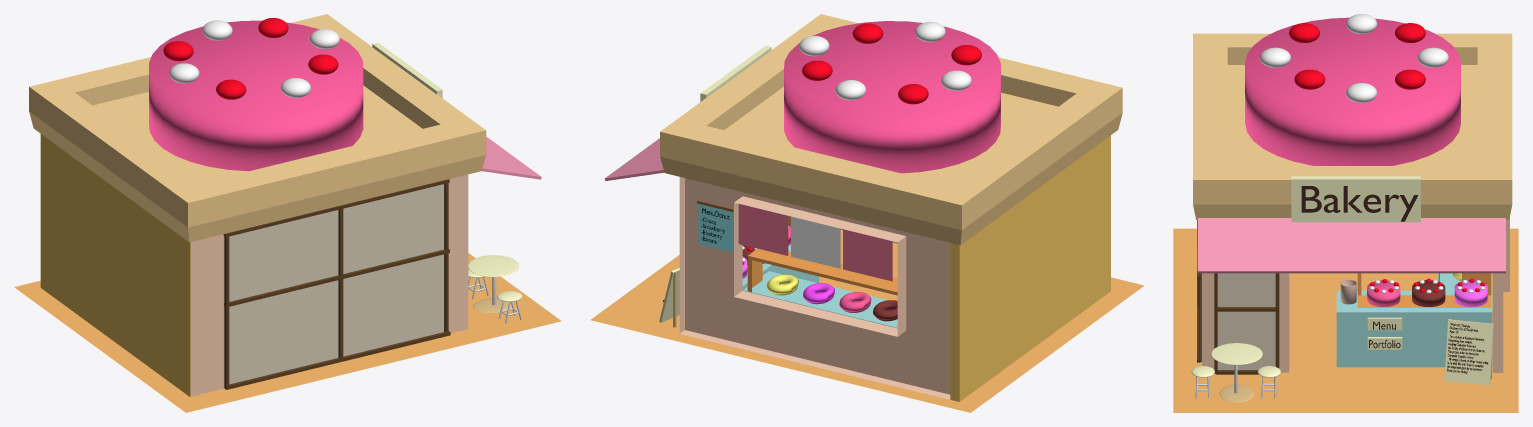
File: Bekery.glb
The picture shows the model from 3 angles, left to right: view 1: azimuth 30°, elevation 25°; view 2: azimuth 150°, elevation 25°; view 3: azimuth 270°, elevation 25°; orthographic projection.
Parts seen in each view (by area): view 1: Cube.003, Cube.038, Cube, Cylinder.024, Cube.001, Plane, Cube.005, Cube.009, Cube.041, Cube.004, Cube.006, Sphere.004 (+11 smaller); view 2: Cube.038, Cube.002, Cube.001, Cylinder.024, Plane, Cube.020, Plane.001, Plane.003, Plane.002, Cube.016, MenuDonut, Cube.041 (+14 smaller); view 3: Cube.038, Cylinder.024, Plane, Cube.041, Cube.010, Cube.022, Cube.039, Cube.023, About me, Cube.002, Text.004, Cube.003 (+20 smaller).
Part boxes in pixels (left/top/right/bottom): Cube.003: left=190, top=174, right=468, bottom=396; Cube.038: left=29, top=14, right=486, bottom=242; Cube: left=224, top=184, right=444, bottom=388; Cylinder.024: left=149, top=20, right=363, bottom=171; Cube.001: left=40, top=134, right=197, bottom=396; Plane: left=14, top=253, right=561, bottom=412; Cube.005: left=224, top=331, right=450, bottom=389; Cube.009: left=224, top=249, right=449, bottom=307; Cube.041: left=482, top=137, right=541, bottom=179; Cube.004: left=223, top=179, right=449, bottom=237; Cube.006: left=224, top=233, right=229, bottom=388; Sphere.004: left=468, top=255, right=519, bottom=276; Cube.038: left=660, top=14, right=1122, bottom=245; Cube.002: left=679, top=177, right=958, bottom=401; Cube.001: left=950, top=135, right=1110, bottom=401; Cylinder.024: left=784, top=21, right=1000, bottom=173; Plane: left=590, top=230, right=1144, bottom=412; Cube.020: left=747, top=248, right=897, bottom=295; Plane.001: left=738, top=204, right=788, bottom=255; Plane.003: left=843, top=229, right=892, bottom=281; Plane.002: left=791, top=216, right=840, bottom=268; Cube.016: left=743, top=271, right=897, bottom=328; MenuDonut: left=698, top=203, right=733, bottom=252; Cube.041: left=604, top=138, right=664, bottom=180; Cube.038: left=1193, top=33, right=1512, bottom=219; Cylinder.024: left=1245, top=17, right=1460, bottom=165; Plane: left=1173, top=228, right=1518, bottom=412; Cube.041: left=1197, top=218, right=1505, bottom=273; Cube.010: left=1336, top=290, right=1492, bottom=367; Cube.022: left=1212, top=273, right=1289, bottom=372; Cube.039: left=1291, top=176, right=1420, bottom=222; Cube.023: left=1218, top=273, right=1275, bottom=369; About me: left=1444, top=319, right=1493, bottom=385; Cube.002: left=1492, top=217, right=1509, bottom=372; Text.004: left=1301, top=186, right=1418, bottom=221; Cube.003: left=1202, top=273, right=1212, bottom=367.
Size of the model in its own units: 10.1 by 6.58 by 8.
